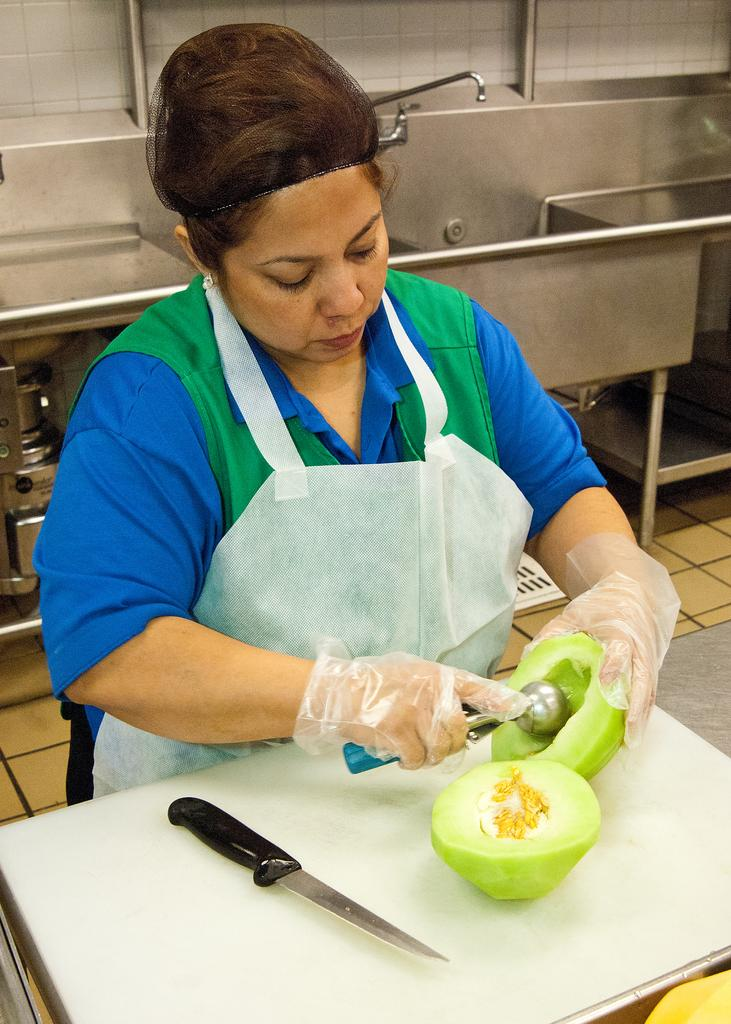knife: (160, 795, 460, 970)
non-violence: (39, 17, 677, 785)
